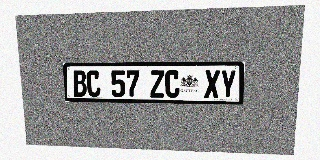5: (111, 70, 125, 97)
7: (125, 70, 140, 97)
B: (72, 70, 87, 97)
C: (165, 70, 180, 98), (86, 70, 101, 97)
X: (204, 70, 220, 98)
Y: (220, 70, 236, 98)
Z: (150, 70, 164, 98)
